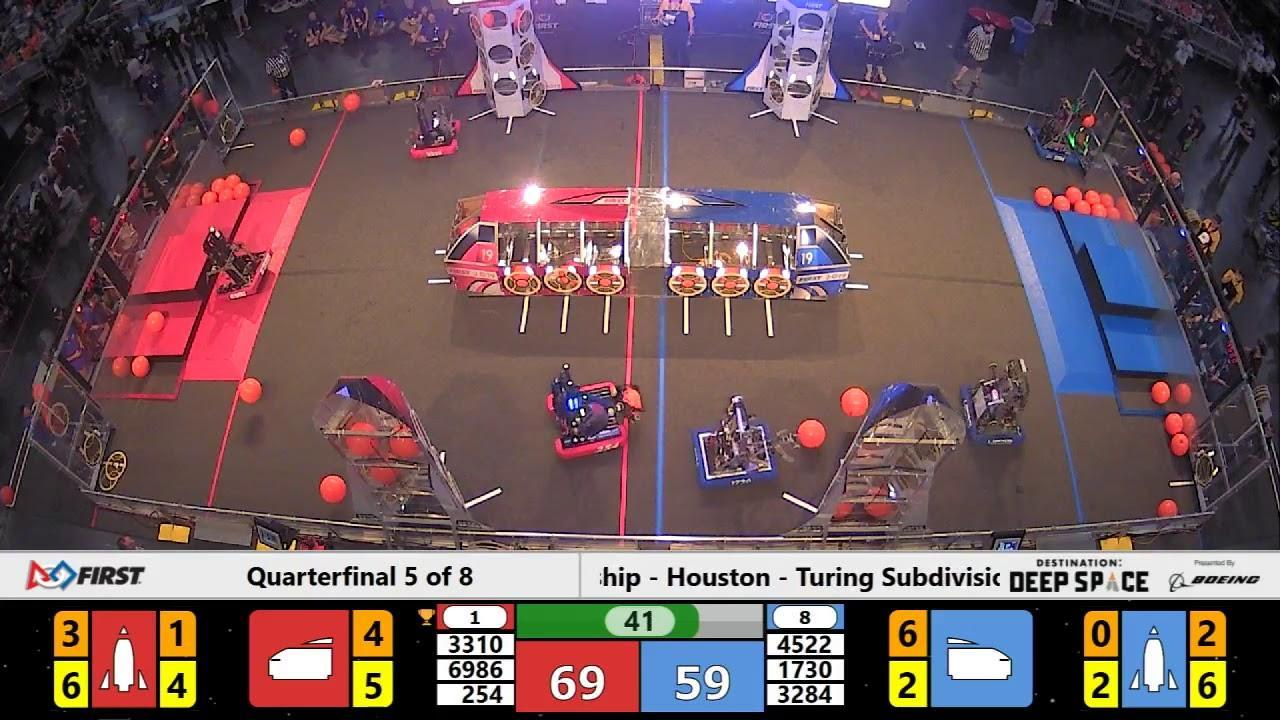robot: (530, 358, 649, 462), (688, 393, 775, 491), (193, 227, 279, 304), (959, 357, 1030, 450), (396, 82, 465, 164), (1025, 92, 1096, 167)
